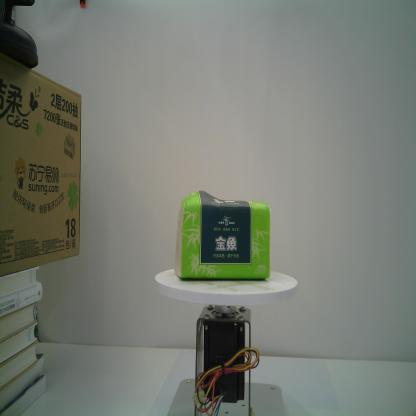Tissue: (172, 189, 272, 283)
